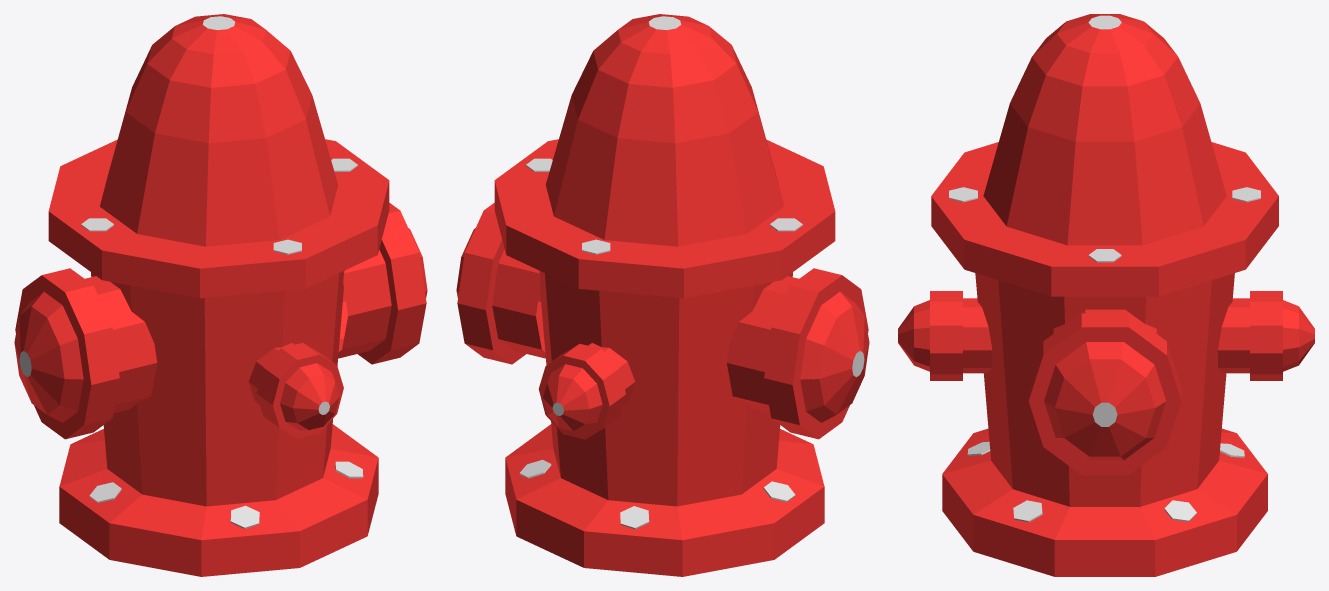
Rendered from Fire_Hydrant.fbx.
The picture shows the model from 3 angles, left to right: view 1: azimuth 30°, elevation 25°; view 2: azimuth 150°, elevation 25°; view 3: azimuth 270°, elevation 25°; orthographic projection.
Visible parts, largest first — view 1: FireHydrant; view 2: FireHydrant; view 3: FireHydrant.
Part boxes in pixels (x1,y1,x2,y2): FireHydrant: (14,14,427,576); FireHydrant: (456,14,869,576); FireHydrant: (898,14,1314,576).
Size of the model in its own units: 0.8895 by 1.06 by 0.8168.
